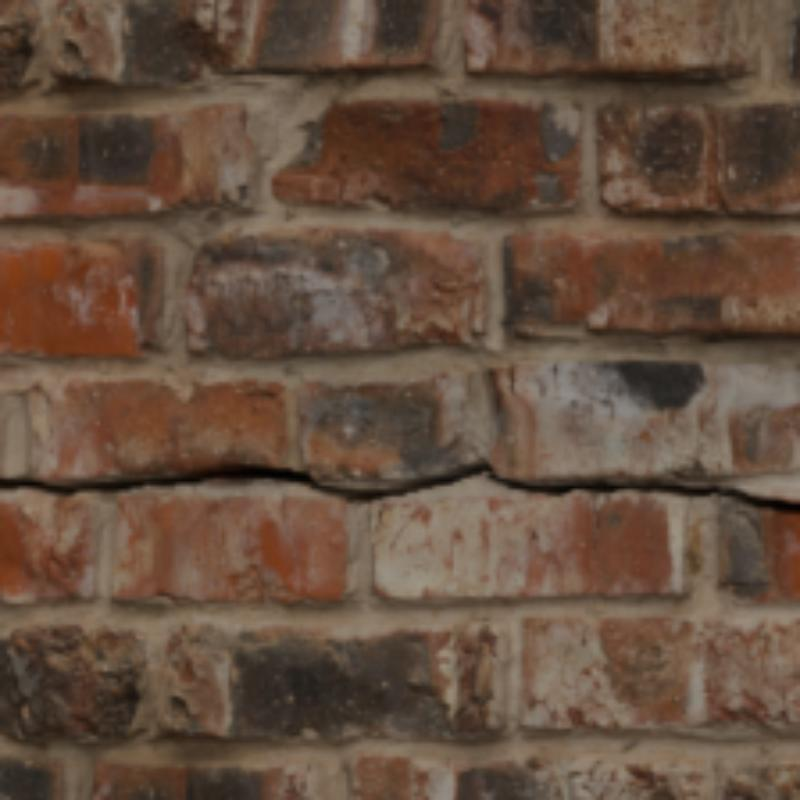pothole: (0, 457, 796, 511)
